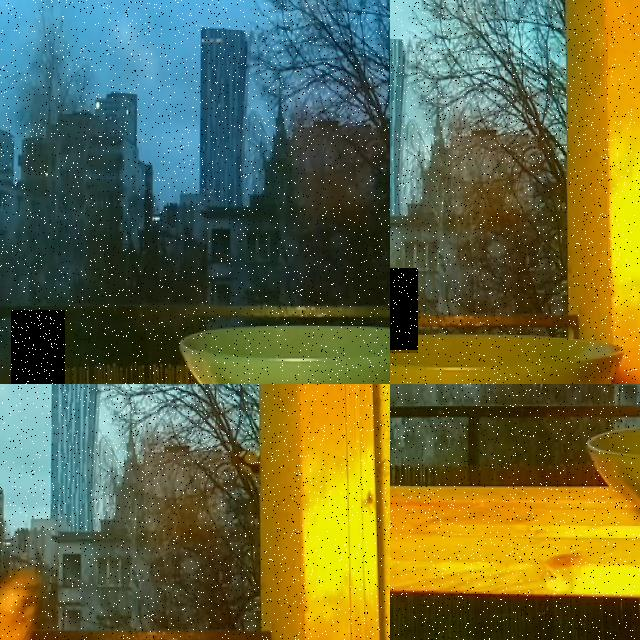Bogatka: (11, 309, 65, 384)
Modraszka: (390, 268, 418, 352)
